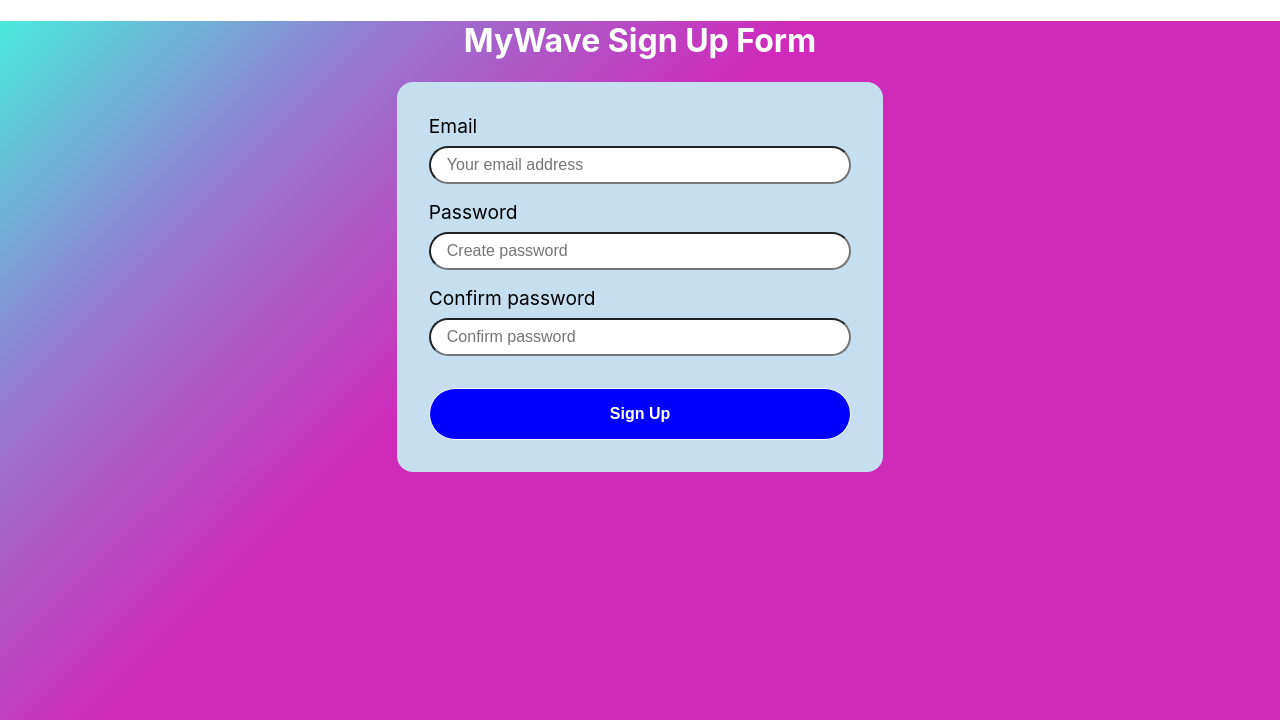
SignupForm › should show error message when user add invalid password
This screenshot has width=1280, height=720.
In the password field named "Password field": (640, 251) x1=429 y1=232 x2=851 y2=270, type "test123"
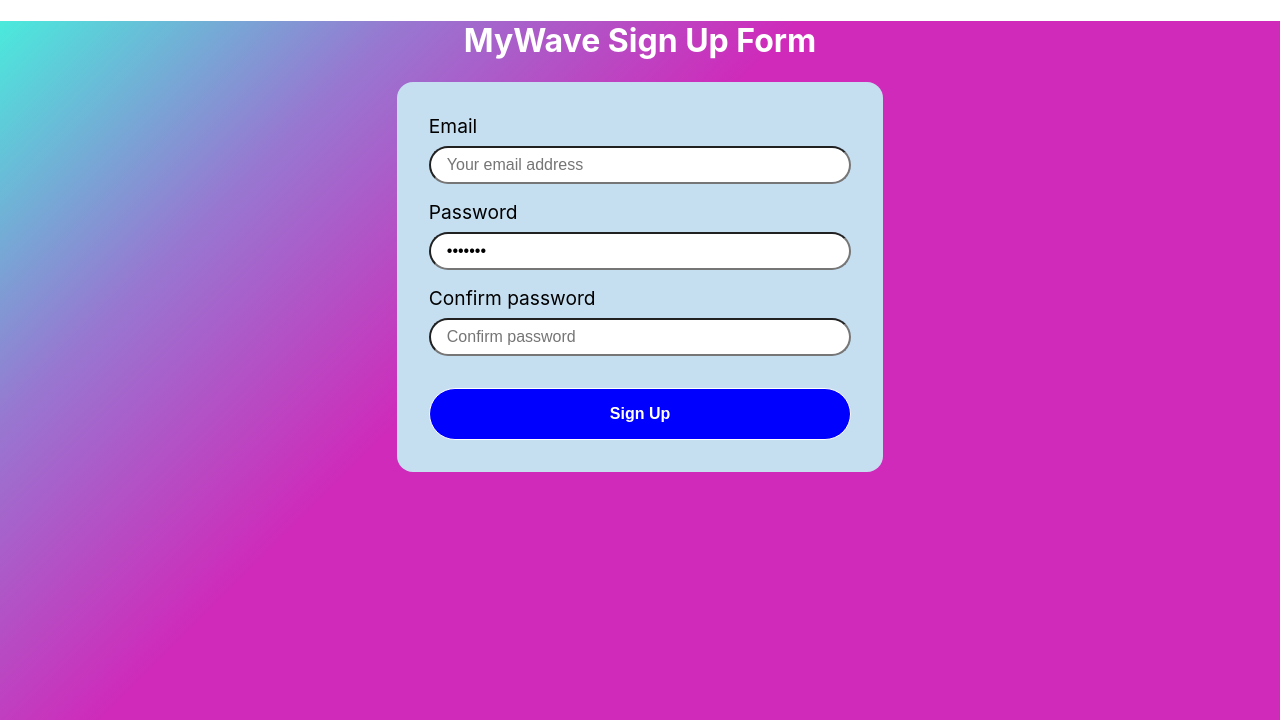
Leave the password field named "Password field", box x1=429 y1=232 x2=851 y2=270
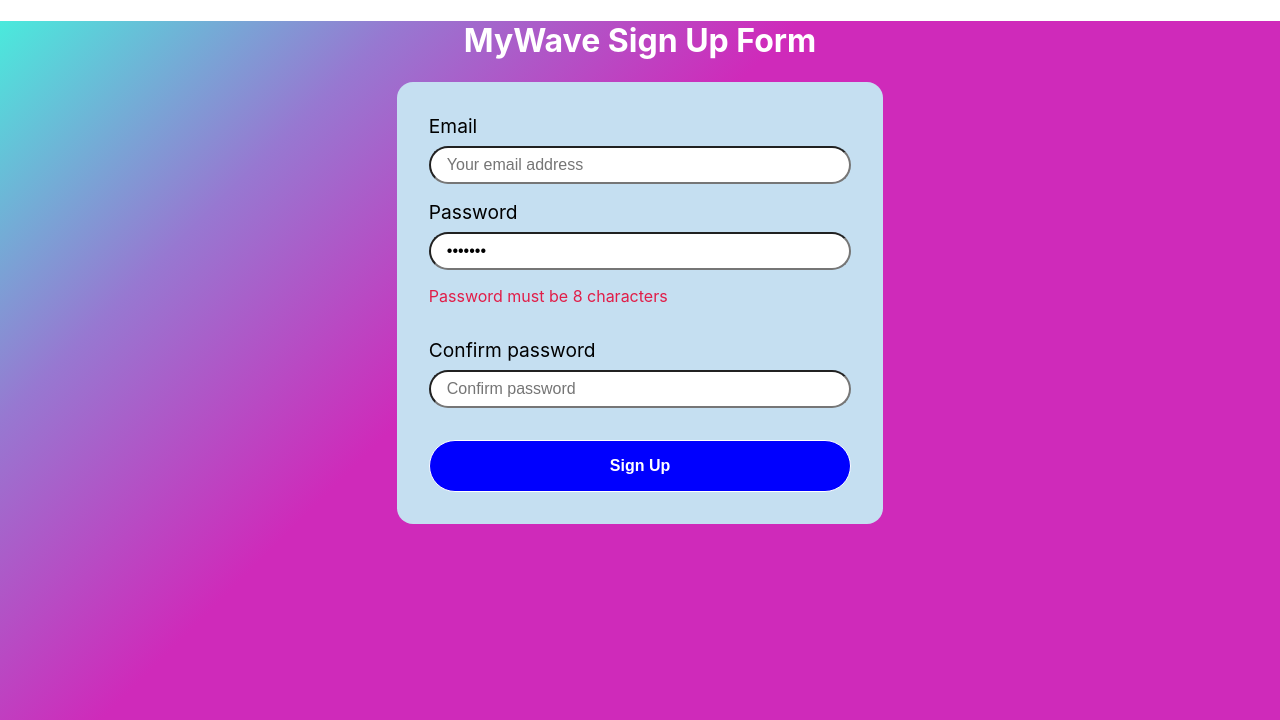
Result: the text with test id "passwordError" reads "Password must be 8 characters" at x1=429 y1=286 x2=668 y2=306
